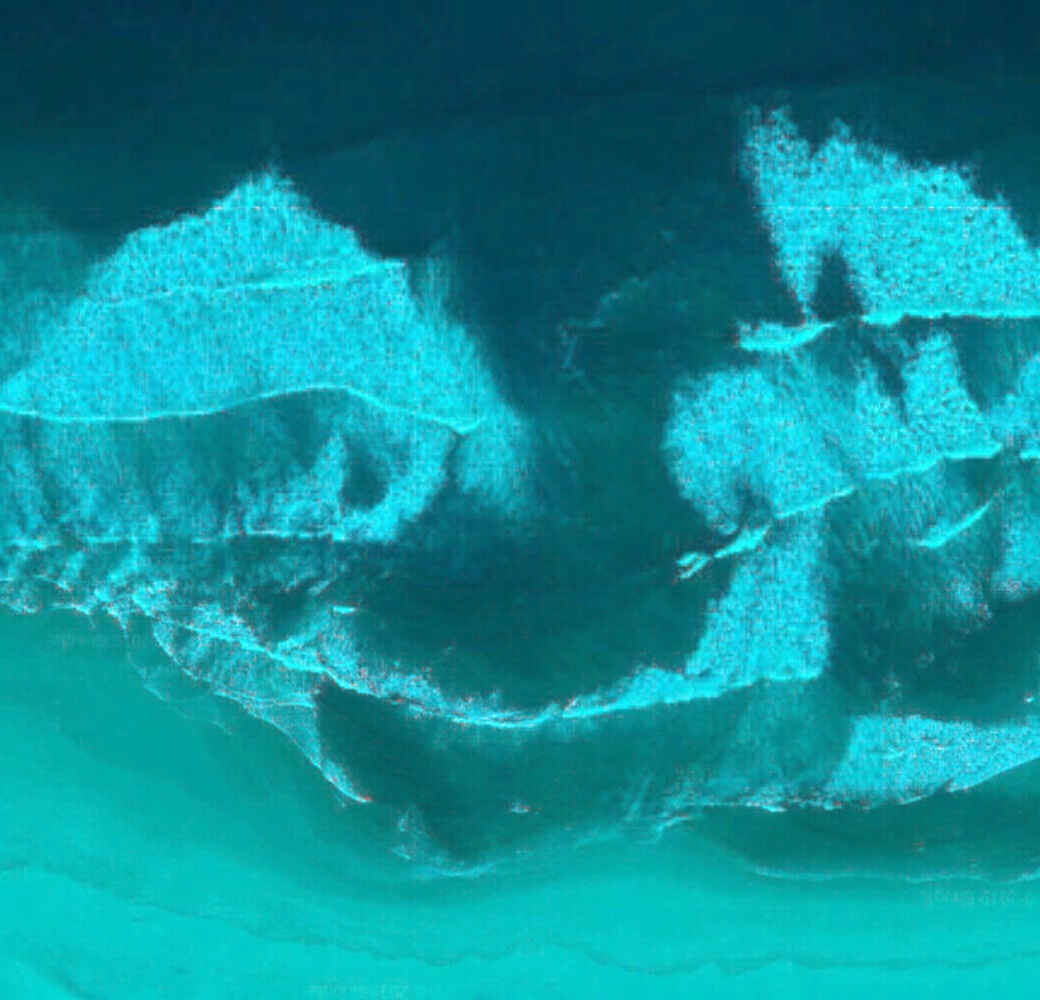rip_current: (306, 129, 832, 872)
